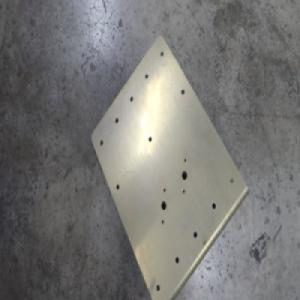MetalSheet: (89, 34, 248, 300)
